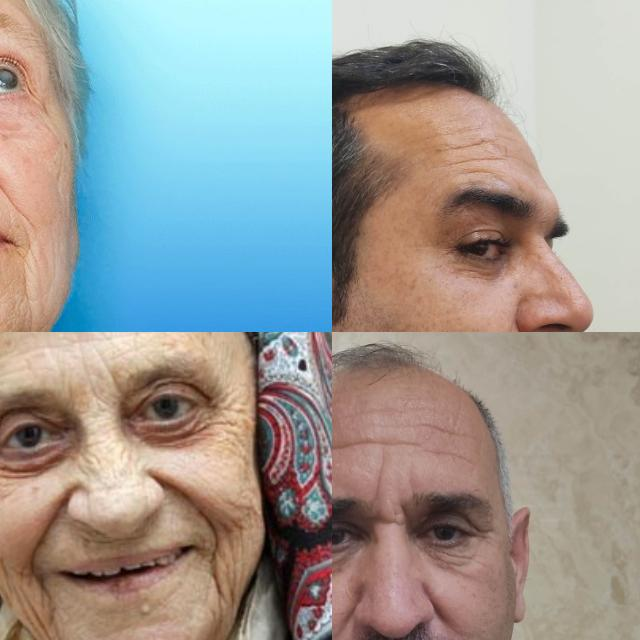bunny_line: (73, 450, 103, 480), (115, 444, 145, 470)
crows_feet: (206, 388, 238, 432), (469, 523, 495, 545)
forehead: (450, 150, 508, 182), (427, 414, 473, 446), (364, 430, 418, 456), (440, 125, 486, 153), (428, 440, 474, 468), (0, 360, 56, 380), (53, 333, 121, 347), (332, 428, 359, 455)
frown_line: (368, 466, 390, 508), (100, 365, 124, 401)
gummy_smile: (163, 471, 220, 523), (29, 494, 67, 556), (0, 162, 17, 202)
masseter: (0, 559, 27, 612), (227, 494, 261, 528)
sad_smile: (202, 549, 232, 615), (29, 571, 59, 621), (16, 256, 36, 306)
